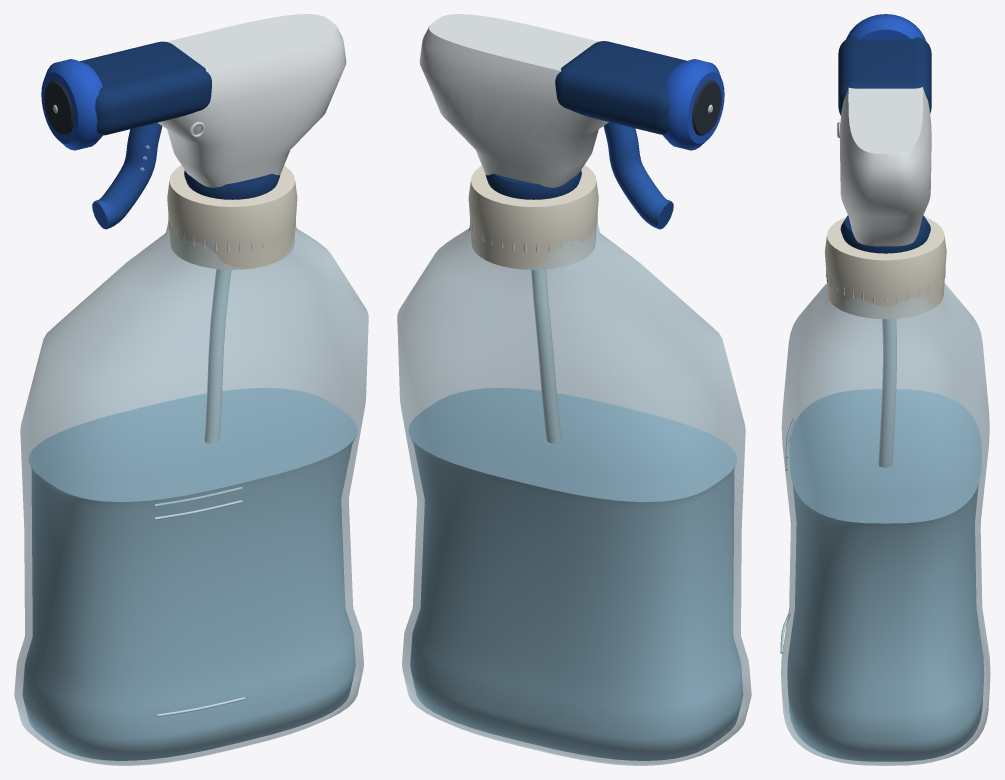
Rendered from bottle.glb.
3 views of the same model, side by side, from view 1: azimuth 30°, elevation 25°; view 2: azimuth 150°, elevation 25°; view 3: azimuth 270°, elevation 25° (orthographic). The views are drawn at different scales.
Parts seen in each view (by area): view 1: Assembly • Bottle wall, Assembly • Blue liquid, Assembly • Porcelain, Assembly • Deep blue, Assembly • Warm ivory, Assembly • Capacity plastic, Assembly • Molded blue, Assembly • Cobalt, Assembly • Graphite; view 2: Assembly • Bottle wall, Assembly • Blue liquid, Assembly • Porcelain, Assembly • Deep blue, Assembly • Warm ivory, Assembly • Molded blue, Assembly • Cobalt, Assembly • Capacity plastic, Assembly • Graphite; view 3: Assembly • Bottle wall, Assembly • Blue liquid, Assembly • Porcelain, Assembly • Warm ivory, Assembly • Deep blue, Assembly • Capacity plastic, Assembly • Cobalt.
Boxes of the visible parts, x1=… form: Assembly • Bottle wall: x1=14, y1=221, x2=368, y2=765; Assembly • Blue liquid: x1=22, y1=388, x2=357, y2=760; Assembly • Porcelain: x1=158, y1=14, x2=346, y2=187; Assembly • Deep blue: x1=80, y1=41, x2=280, y2=199; Assembly • Warm ivory: x1=167, y1=165, x2=297, y2=269; Assembly • Capacity plastic: x1=154, y1=269, x2=245, y2=717; Assembly • Molded blue: x1=92, y1=122, x2=162, y2=229; Assembly • Cobalt: x1=41, y1=59, x2=102, y2=150; Assembly • Graphite: x1=44, y1=80, x2=73, y2=135; Assembly • Bottle wall: x1=397, y1=221, x2=751, y2=765; Assembly • Blue liquid: x1=408, y1=388, x2=743, y2=760; Assembly • Porcelain: x1=419, y1=14, x2=608, y2=187; Assembly • Deep blue: x1=485, y1=41, x2=686, y2=199; Assembly • Warm ivory: x1=468, y1=165, x2=598, y2=269; Assembly • Molded blue: x1=603, y1=122, x2=673, y2=229; Assembly • Cobalt: x1=662, y1=59, x2=724, y2=150; Assembly • Capacity plastic: x1=531, y1=269, x2=709, y2=443; Assembly • Graphite: x1=692, y1=80, x2=721, y2=135; Assembly • Bottle wall: x1=781, y1=283, x2=990, y2=765; Assembly • Blue liquid: x1=787, y1=389, x2=984, y2=761; Assembly • Porcelain: x1=839, y1=87, x2=931, y2=246; Assembly • Warm ivory: x1=824, y1=217, x2=946, y2=319; Assembly • Deep blue: x1=838, y1=37, x2=931, y2=253; Assembly • Capacity plastic: x1=780, y1=319, x2=896, y2=653; Assembly • Cobalt: x1=846, y1=14, x2=925, y2=40.
Bounding box in the file's own units: 0.479 × 0.974 × 0.2927.
